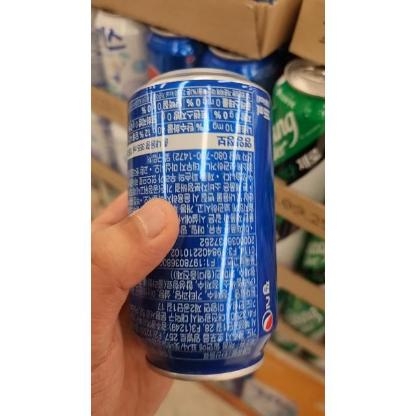Can: (126, 66, 278, 382)
